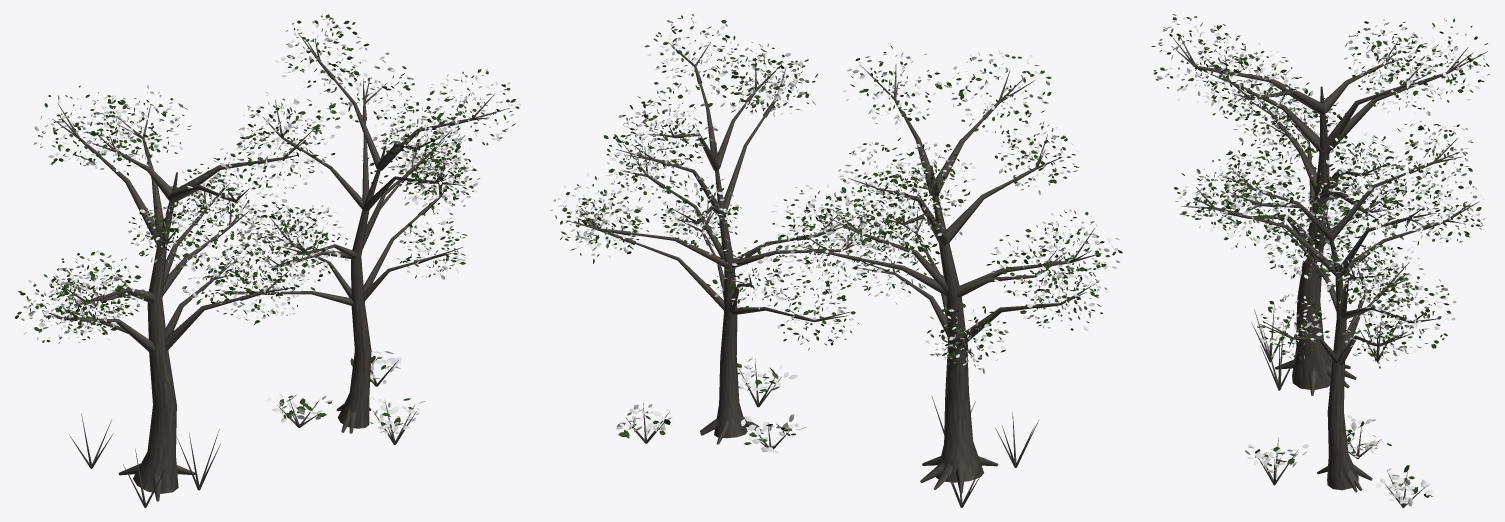
File: SM_Env_Tile_p0_m4.fbx
The picture shows the model from 3 angles, left to right: view 1: azimuth 30°, elevation 25°; view 2: azimuth 150°, elevation 25°; view 3: azimuth 270°, elevation 25°; orthographic projection.
Visible parts, largest first — view 1: SM_Env_Tile_p0_m4; view 2: SM_Env_Tile_p0_m4; view 3: SM_Env_Tile_p0_m4.
Boxes of the visible parts, <box> form: SM_Env_Tile_p0_m4: <box>15,14,520,507</box>; SM_Env_Tile_p0_m4: <box>550,14,1122,507</box>; SM_Env_Tile_p0_m4: <box>1151,14,1489,507</box>.
Size of the model in its own units: 1652 by 995 by 1227.
Materials: 5 (2 with a texture image).
